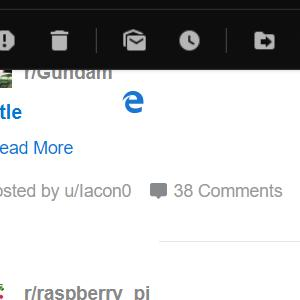edge: (122, 90, 144, 114)
